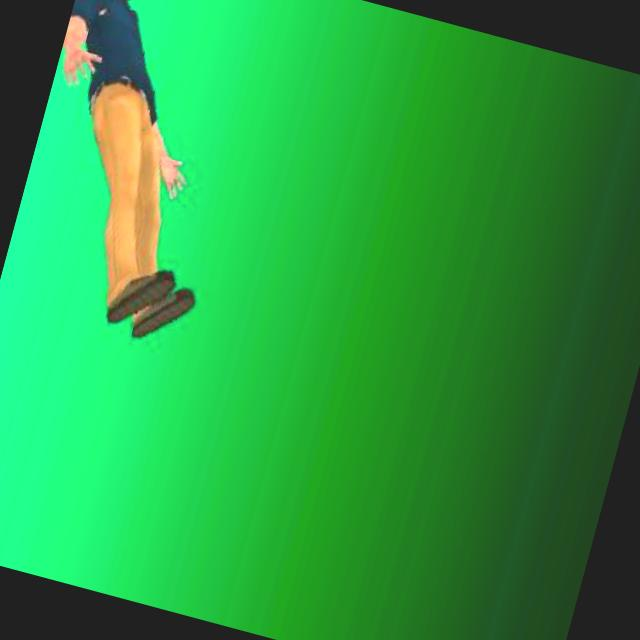Person: (0, 0, 286, 358)
